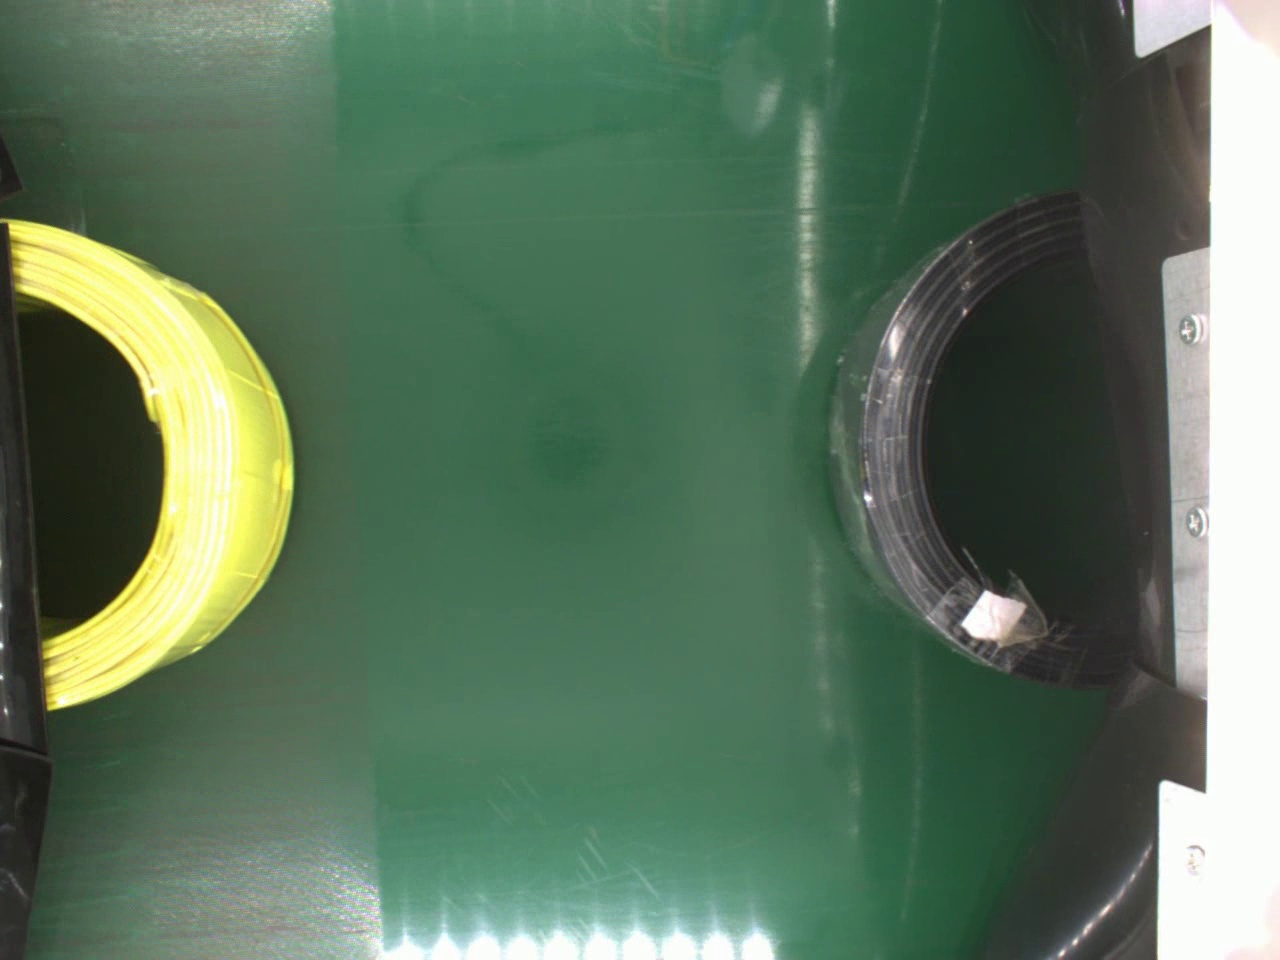black: (823, 182, 1139, 686)
yellow: (8, 216, 303, 716)
